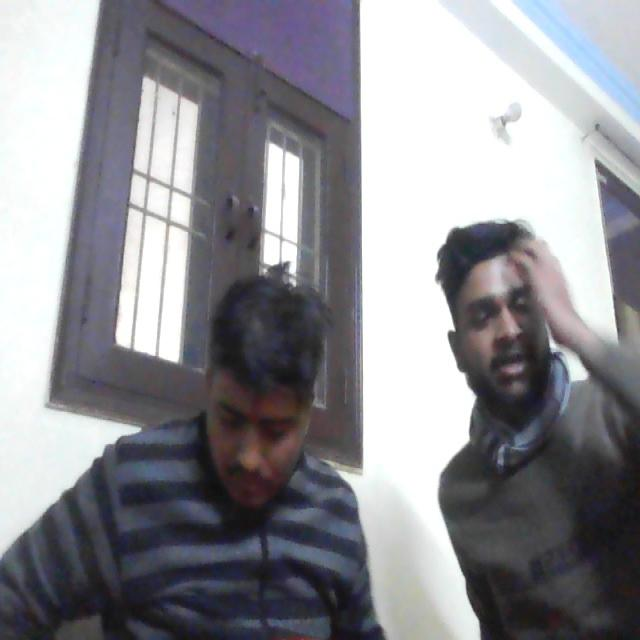real: (198, 289, 320, 520), (450, 209, 556, 411)
